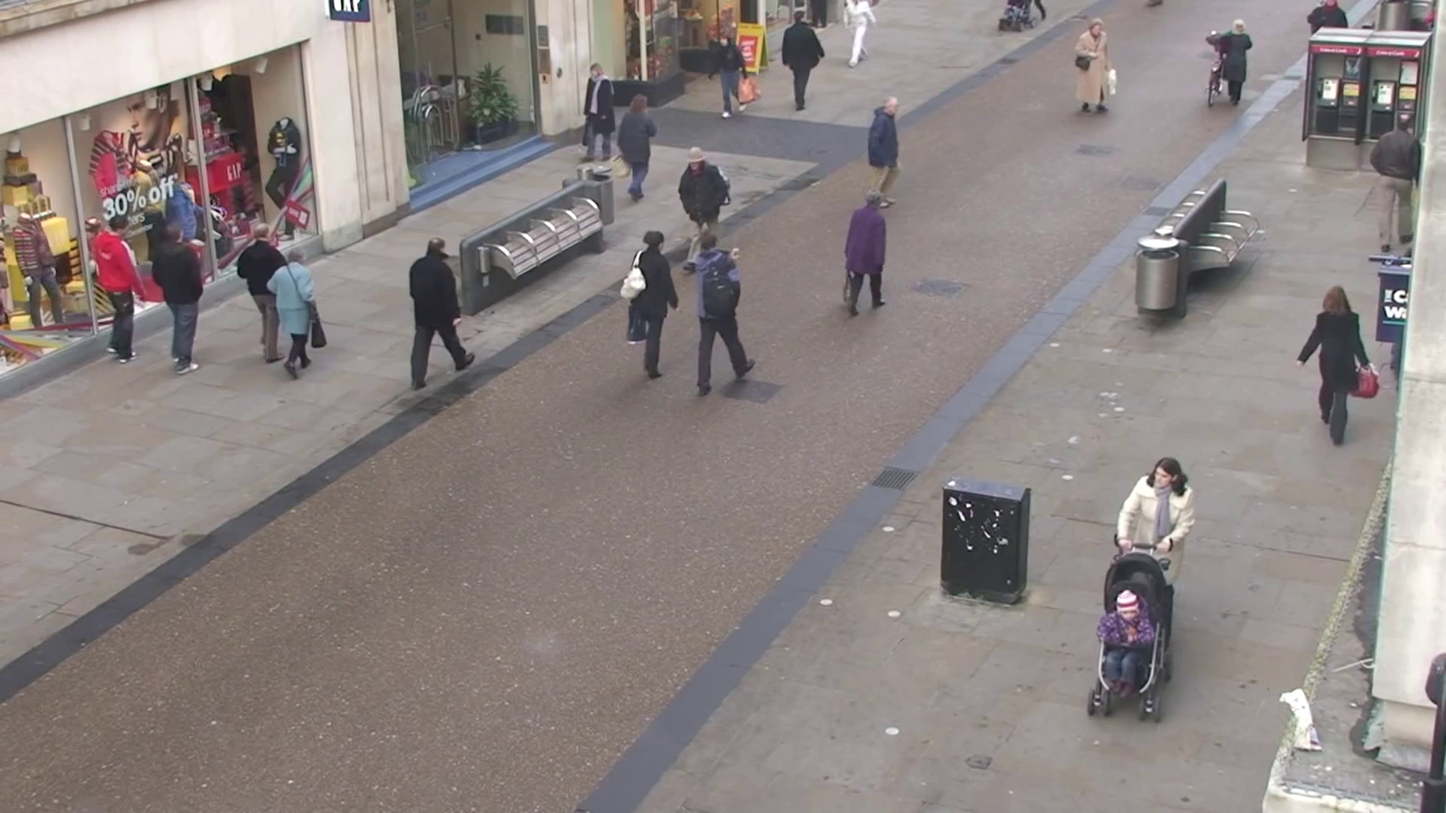person: (1295, 284, 1380, 446), (684, 234, 755, 396), (407, 239, 473, 388), (149, 215, 209, 373), (622, 230, 681, 382), (1200, 6, 1265, 143), (1115, 457, 1194, 564), (88, 217, 145, 364), (233, 223, 288, 367), (267, 248, 318, 377), (842, 192, 889, 315), (678, 150, 731, 243), (780, 7, 825, 113), (617, 93, 655, 202), (581, 58, 613, 175), (1073, 20, 1109, 114), (844, 0, 887, 69), (877, 93, 902, 200)
